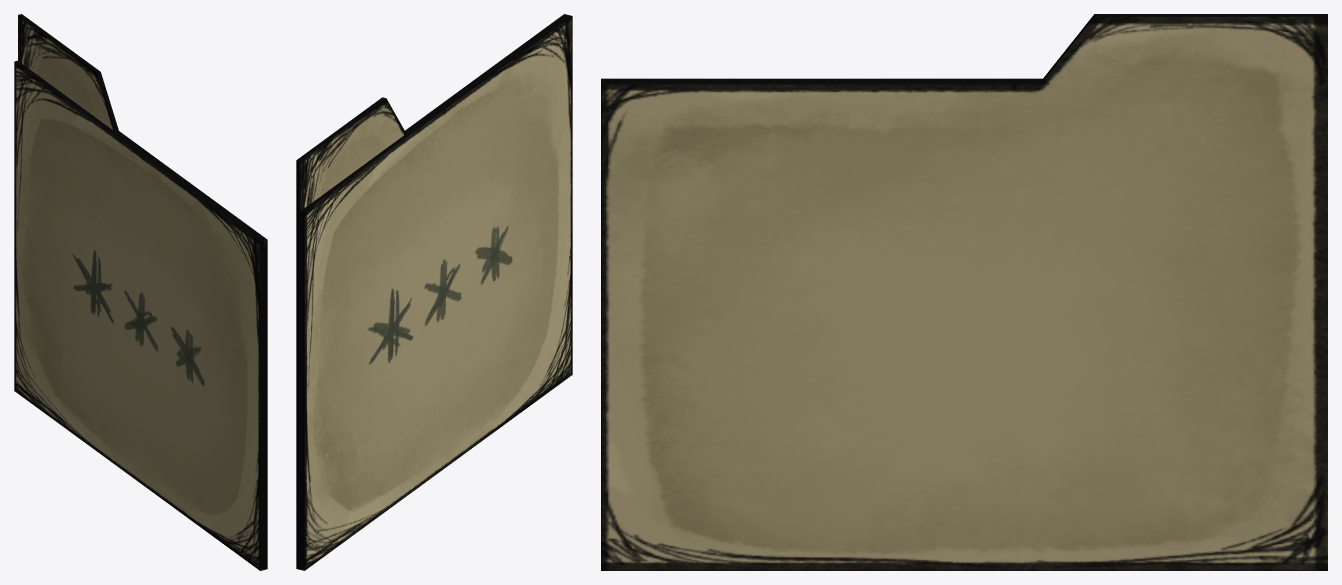
Rendered from folder_decoder.fbx.
3 views of the same model, side by side, from view 1: azimuth 30°, elevation 25°; view 2: azimuth 150°, elevation 25°; view 3: azimuth 270°, elevation 25° (orthographic). The views are drawn at different scales.
Visible parts, largest first — view 1: folder_front.011, folder_decoder; view 2: folder_front.011, folder_decoder; view 3: folder_decoder, folder_front.011.
Part boxes in pixels (box(x1,y1,x2,y2)): folder_front.011: box(14, 60, 263, 570); folder_decoder: box(18, 14, 267, 569); folder_front.011: box(300, 15, 572, 570); folder_decoder: box(296, 14, 567, 569); folder_decoder: box(601, 14, 1327, 570); folder_front.011: box(601, 78, 1042, 81).
Size of the model in its own units: 1.13 by 53.74 by 63.85.
Materials: 2 (2 with a texture image).
